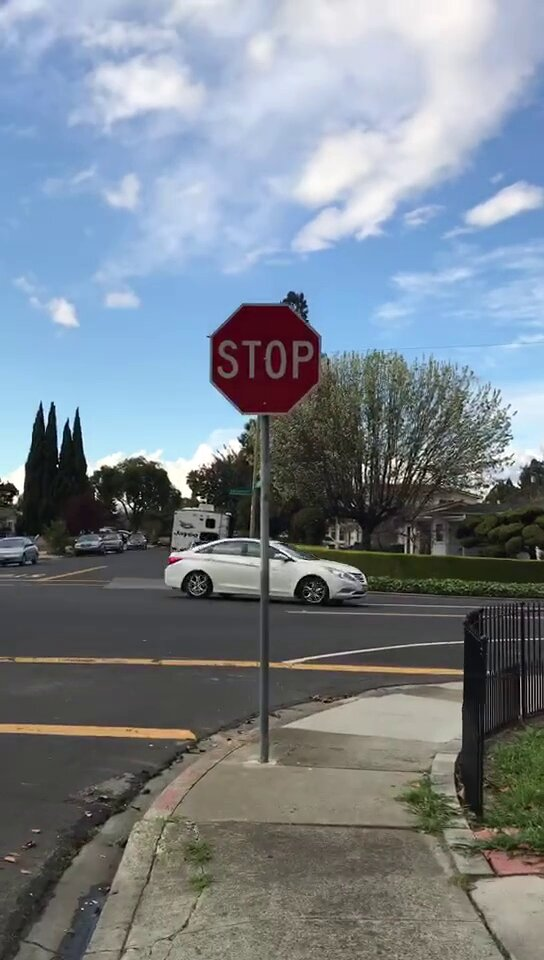stop_sign: (213, 305, 322, 414)
